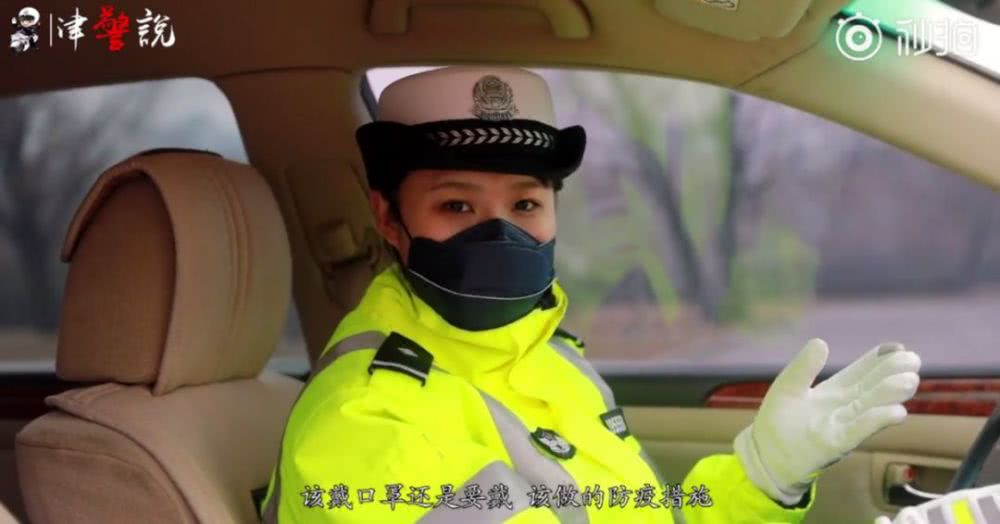mask: (362, 182, 591, 321)
